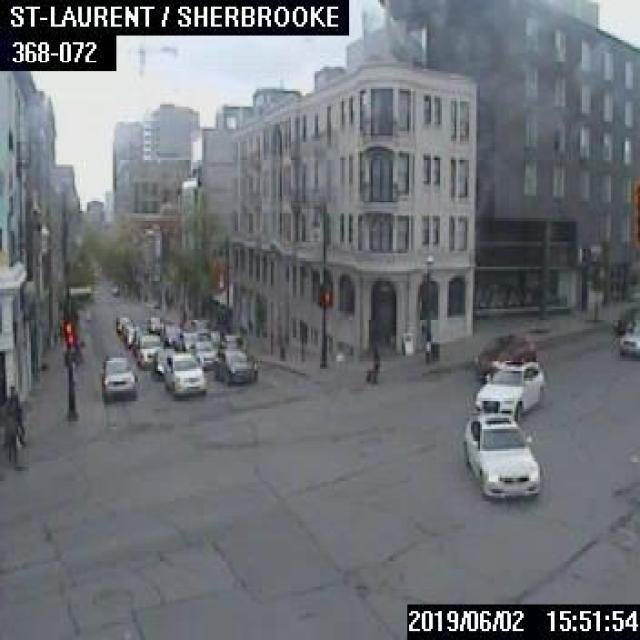pedestrian: (0, 402, 24, 469), (5, 384, 18, 404)
vehicle: (460, 411, 540, 498), (472, 358, 544, 416), (474, 332, 534, 378), (164, 352, 204, 394), (212, 347, 256, 383), (99, 356, 135, 398), (133, 331, 163, 366), (618, 311, 638, 360), (610, 305, 638, 333), (192, 338, 217, 368), (152, 347, 174, 374), (174, 329, 197, 350), (161, 322, 181, 346), (219, 332, 244, 350), (145, 315, 162, 334)
